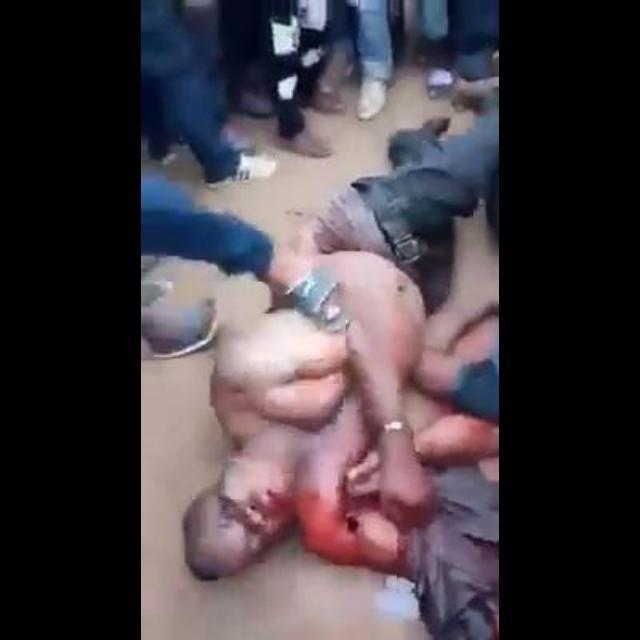blood: (261, 469, 410, 578)
